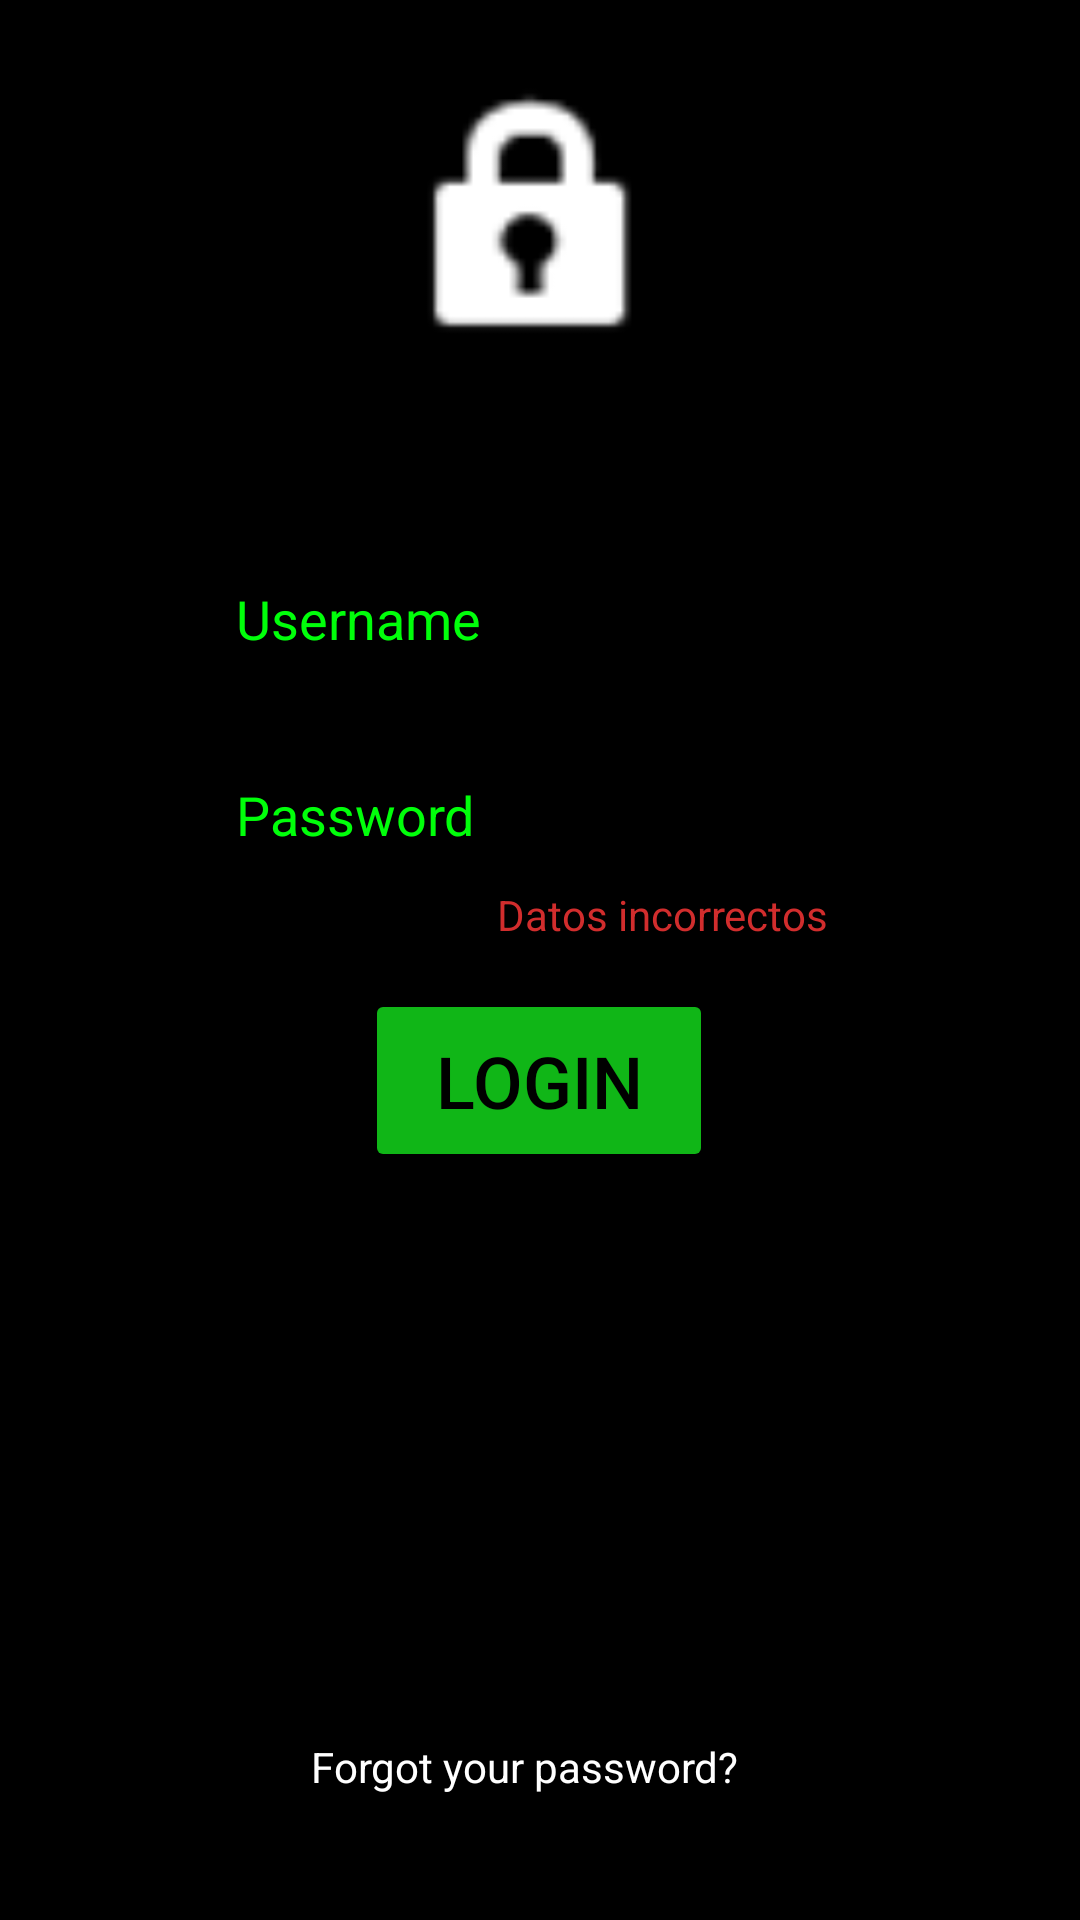

Icon click points for this 1080px×1920px phone screenshot, format [x,y]:
lock idle: [531,212]
